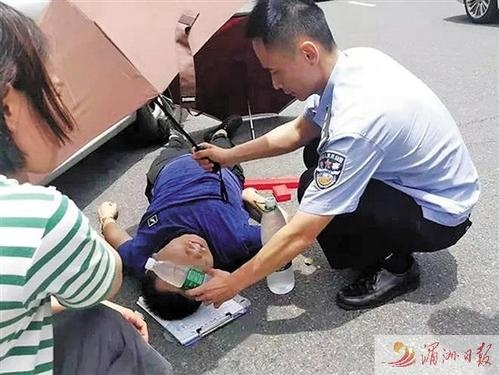falling: (103, 94, 279, 328)
